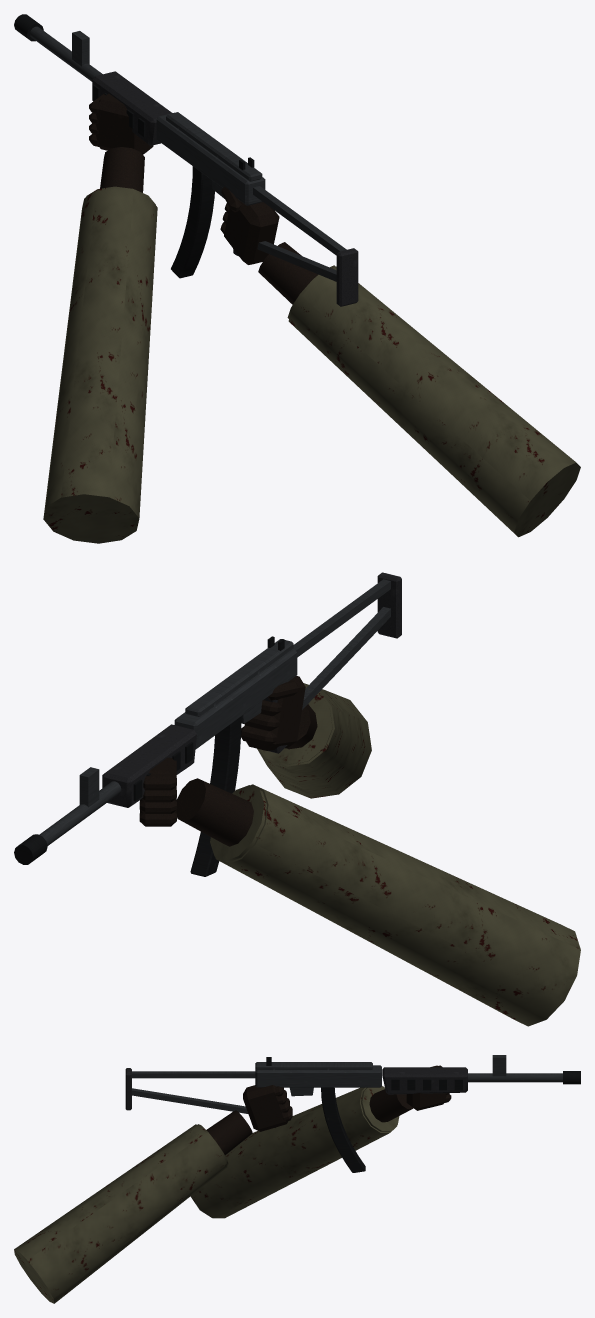
File: galil.gltf
The picture shows the model from 3 angles, top to bottom: view 1: azimuth 30°, elevation 25°; view 2: azimuth 150°, elevation 25°; view 3: azimuth 270°, elevation 25°; orthographic projection. The views are drawn at different scales.
Visible parts, largest first — view 1: Body, ArmL, Mag; view 2: ArmL, Body, Mag; view 3: Body, ArmL, Mag.
Part boxes in pixels (x1,y1,x2,y2): Body: (14,14,580,537); ArmL: (43,93,157,543); Mag: (171,166,214,278); ArmL: (139,757,580,1026); Body: (14,572,401,864); Mag: (190,716,241,876); Body: (14,1055,580,1303); ArmL: (190,1065,451,1218); Mag: (321,1087,365,1172).
Size of the model in its own units: 0.7186 by 0.5436 by 1.25.
Materials: 5 (5 with a texture image).
